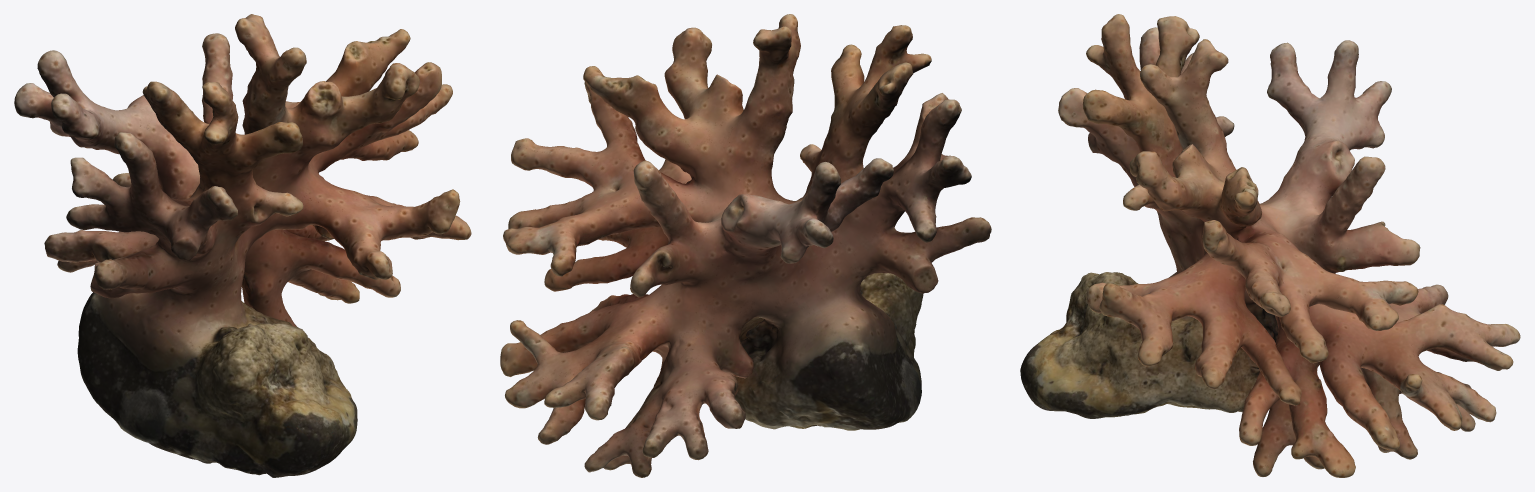
File: usnm_1027819-100k-2048.gltf
The picture shows the model from 3 angles, left to right: view 1: azimuth 30°, elevation 25°; view 2: azimuth 150°, elevation 25°; view 3: azimuth 270°, elevation 25°; orthographic projection. The views are drawn at different scales.
Size of the model in its own units: 0.062 by 0.0564 by 0.0656.
1 material, 1 textured.
